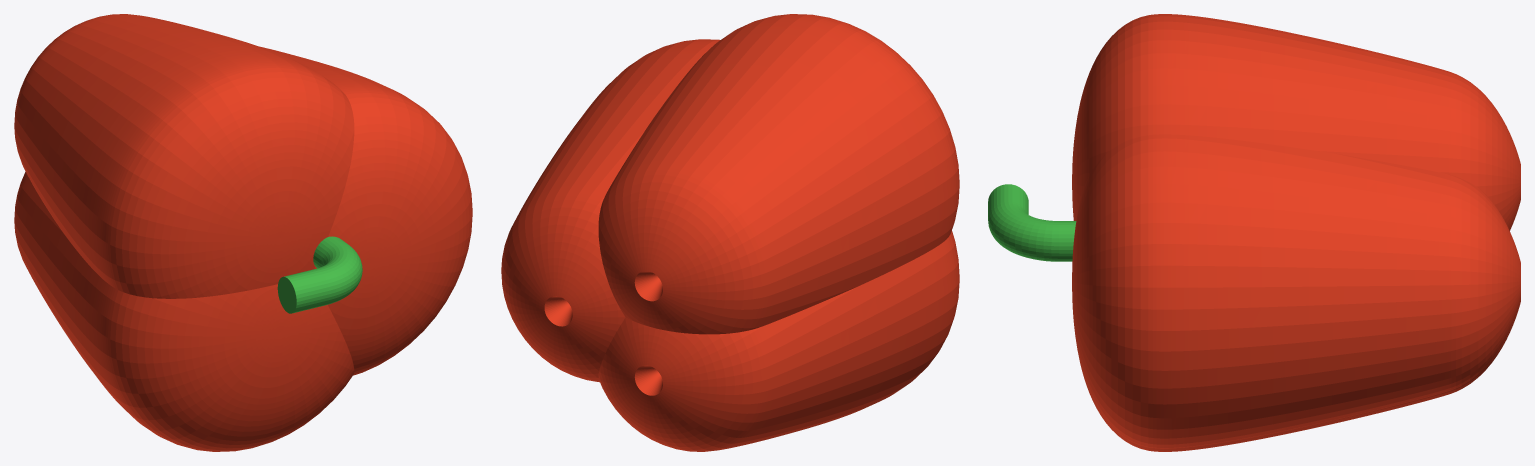
File: tinker.obj
The picture shows the model from 3 angles, left to right: view 1: azimuth 30°, elevation 25°; view 2: azimuth 150°, elevation 25°; view 3: azimuth 270°, elevation 25°; orthographic projection. The views are drawn at different scales.
Visible parts, largest first — view 1: obj_2, obj_0, obj_3, obj_1; view 2: obj_2, obj_0, obj_3; view 3: obj_3, obj_2, obj_1, obj_0.
Boxes of the visible parts, x1,y1,x2,y2 form: obj_2: (14, 14, 354, 298); obj_0: (14, 172, 354, 451); obj_3: (260, 46, 472, 375); obj_1: (277, 236, 362, 313); obj_2: (598, 14, 959, 334); obj_0: (598, 230, 959, 451); obj_3: (501, 39, 719, 382); obj_3: (1072, 134, 1520, 448); obj_2: (1072, 14, 1520, 230); obj_1: (988, 184, 1076, 261); obj_0: (1072, 288, 1520, 451).
Bounding box in the file's own units: 10 × 10 × 11.87.
